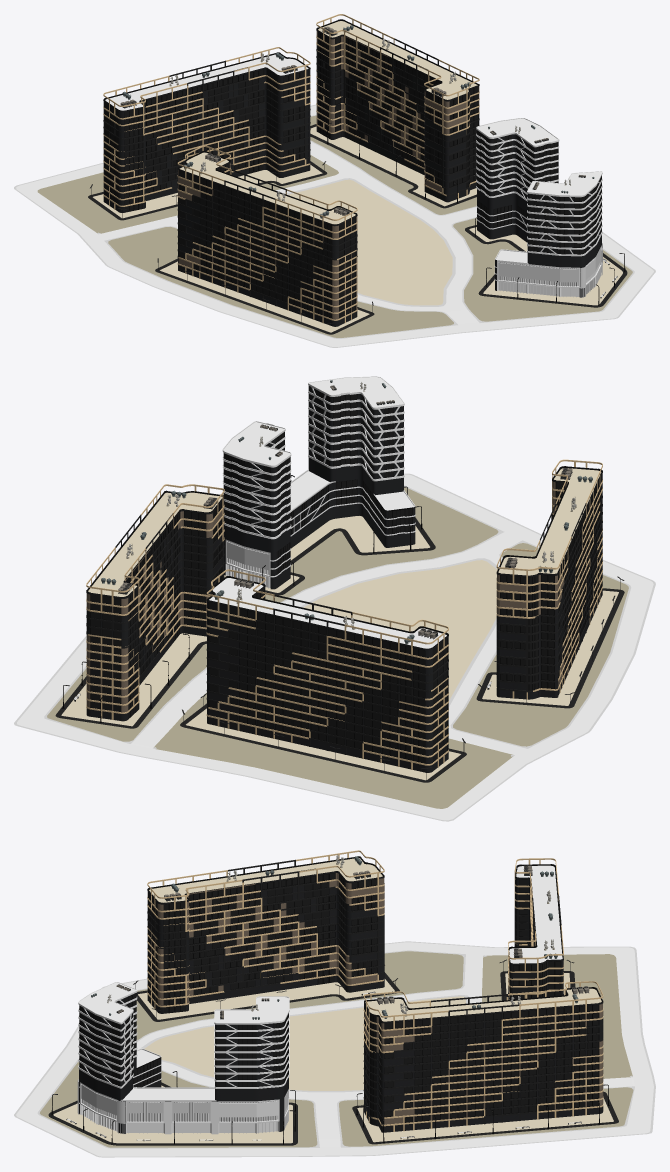
File: FutureboxNew.glb
The picture shows the model from 3 angles, top to bottom: view 1: azimuth 30°, elevation 25°; view 2: azimuth 150°, elevation 25°; view 3: azimuth 270°, elevation 25°; orthographic projection. The views are drawn at different scales.
Visible parts, largest first — view 1: Plane.015, Plane.024, Plane.022, Plane.003, Cube.002, Plane.016, Plane.025, Plane.023, Plane.008, Cube.001, Cube, Plane.002 (+5 smaller); view 2: Plane.015, Plane.024, Plane.003, Plane.022, Cube.002, Plane.025, Plane.016, Plane.008, Cube, Plane.023, Cube.001, Plane.001 (+5 smaller); view 3: Plane.015, Plane.003, Plane.022, Cube.002, Plane.023, Plane.008, Plane.016, Plane.024, Cube, Cube.001, Plane.002, Plane.001 (+6 smaller).
Part boxes in pixels (x1,y1,x2,y2): Plane.015: (14, 104, 655, 347); Plane.024: (103, 52, 310, 212); Plane.022: (177, 151, 357, 326); Plane.003: (316, 19, 479, 202); Cube.002: (477, 118, 601, 267); Plane.016: (287, 179, 452, 305); Plane.025: (103, 47, 310, 209); Plane.023: (177, 145, 357, 323); Plane.008: (316, 14, 479, 198); Cube.001: (476, 118, 602, 256); Cube: (477, 200, 601, 297); Plane.002: (465, 225, 627, 307); Plane.015: (14, 473, 655, 821); Plane.024: (206, 576, 448, 772); Plane.003: (86, 490, 224, 721); Plane.022: (496, 466, 602, 699); Cube.002: (223, 377, 403, 552); Plane.025: (206, 569, 448, 769); Plane.016: (303, 560, 497, 700); Plane.008: (86, 484, 224, 719); Cube: (224, 471, 415, 589); Plane.023: (496, 459, 602, 699); Cube.001: (222, 376, 404, 539); Plane.001: (55, 633, 206, 728); Plane.015: (14, 941, 655, 1157); Plane.003: (364, 987, 603, 1132); Plane.022: (147, 856, 384, 1013); Cube.002: (79, 982, 288, 1101); Plane.023: (147, 850, 384, 1008); Plane.008: (363, 981, 603, 1131); Plane.016: (144, 996, 465, 1090); Plane.024: (508, 864, 563, 999); Cube: (79, 1048, 288, 1133); Cube.001: (78, 982, 289, 1088); Plane.002: (48, 1082, 297, 1145); Plane.001: (352, 1091, 618, 1144).
Bounding box in the file's own units: 227 × 58.6 × 285.
Materials: 22 (8 with a texture image).
